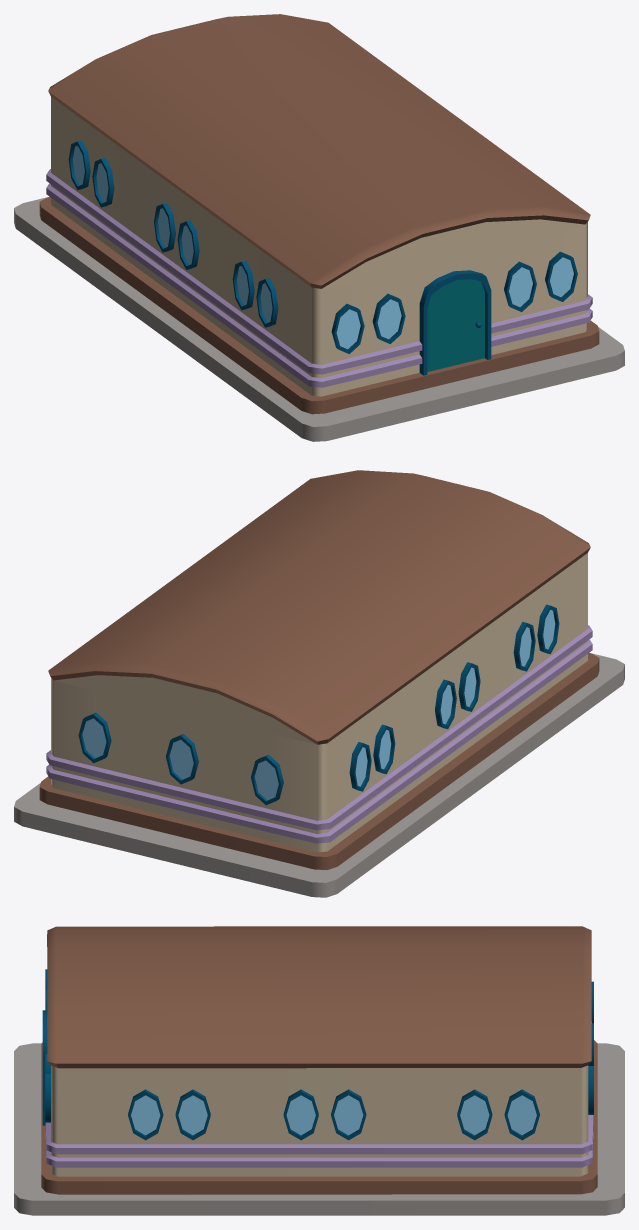
The model's file is House_6.fbx.
3 renders of one model, top to bottom at view 1: azimuth 30°, elevation 25°; view 2: azimuth 150°, elevation 25°; view 3: azimuth 270°, elevation 25°, orthographic.
Parts seen in each view (by area): view 1: House_6; view 2: House_6; view 3: House_6.
Part boxes in pixels (box(x1,y1,x2,y2)): House_6: box(14, 14, 624, 441); House_6: box(14, 470, 624, 897); House_6: box(14, 926, 624, 1215).
Bounding box in the file's own units: 224 × 367 × 114.
